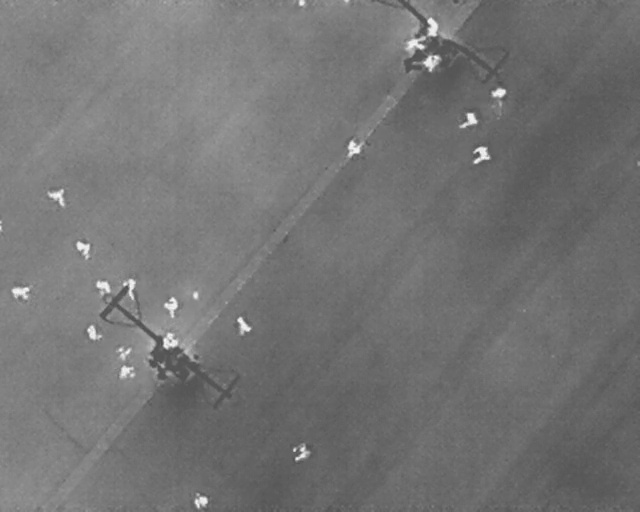Person: (404, 33, 428, 53), (456, 110, 480, 129), (291, 442, 312, 463), (44, 188, 64, 208), (163, 296, 179, 318), (120, 279, 136, 301), (192, 491, 209, 510), (472, 147, 490, 164), (347, 137, 362, 157), (490, 85, 508, 101), (425, 54, 441, 72), (76, 241, 91, 260), (426, 17, 439, 38), (92, 279, 110, 294), (237, 316, 251, 335), (87, 325, 103, 341), (163, 333, 177, 350), (12, 287, 30, 300), (117, 366, 136, 378), (116, 345, 131, 359)
